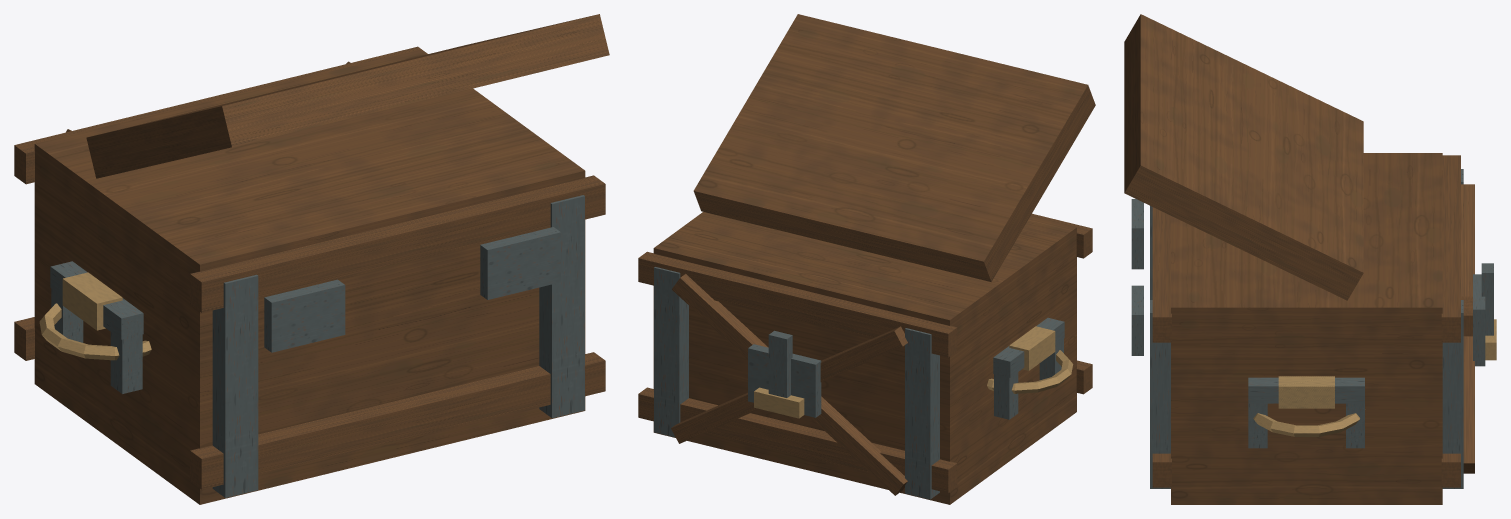
Rendered from pr-004_supply_crate__open.obj.
3 views of the same model, side by side, from view 1: azimuth 30°, elevation 25°; view 2: azimuth 150°, elevation 25°; view 3: azimuth 270°, elevation 25° (orthographic). The views are drawn at different scales.
Visible parts, largest first — view 1: pr-004_supply_crate__open; view 2: pr-004_supply_crate__open; view 3: pr-004_supply_crate__open.
Part boxes in pixels (x1,y1,x2,y2): pr-004_supply_crate__open: (14, 14, 609, 504); pr-004_supply_crate__open: (638, 14, 1095, 504); pr-004_supply_crate__open: (1124, 14, 1496, 504).
Size of the model in its own units: 1.42 by 1.07 by 1.07.
Materials: 4 (4 with a texture image).
